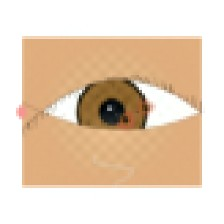foreign_body_visible: (129, 95, 162, 121)
